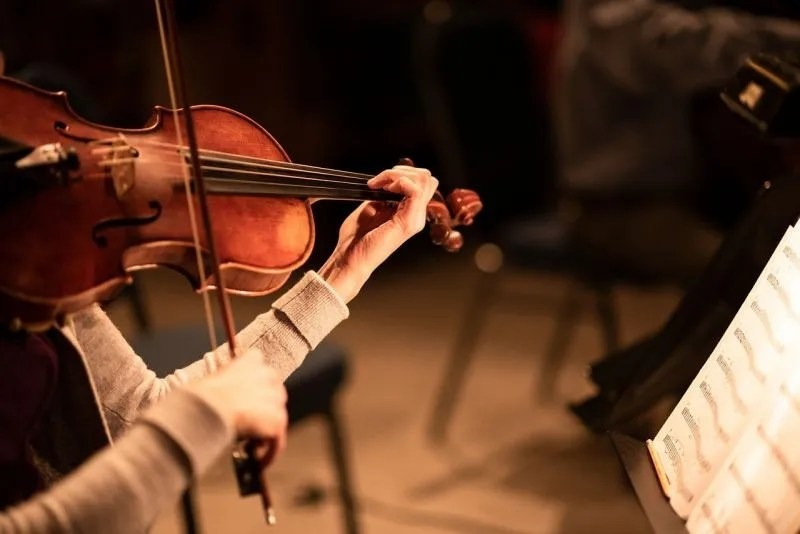Violin: (1, 1, 559, 501)
